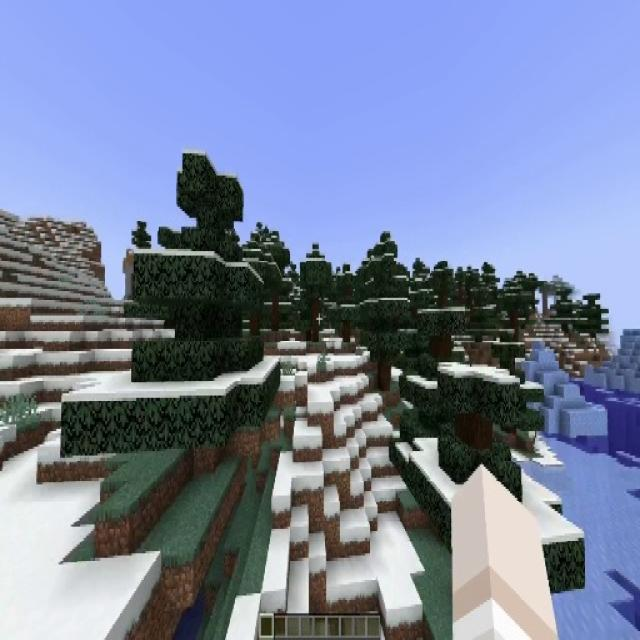spruce: (395, 362, 586, 620), (122, 148, 274, 464), (358, 235, 409, 392), (299, 245, 333, 341), (578, 292, 610, 342), (548, 288, 582, 335)
spruce_log: (378, 359, 391, 392), (312, 300, 319, 340), (272, 300, 278, 334), (458, 414, 460, 418)
